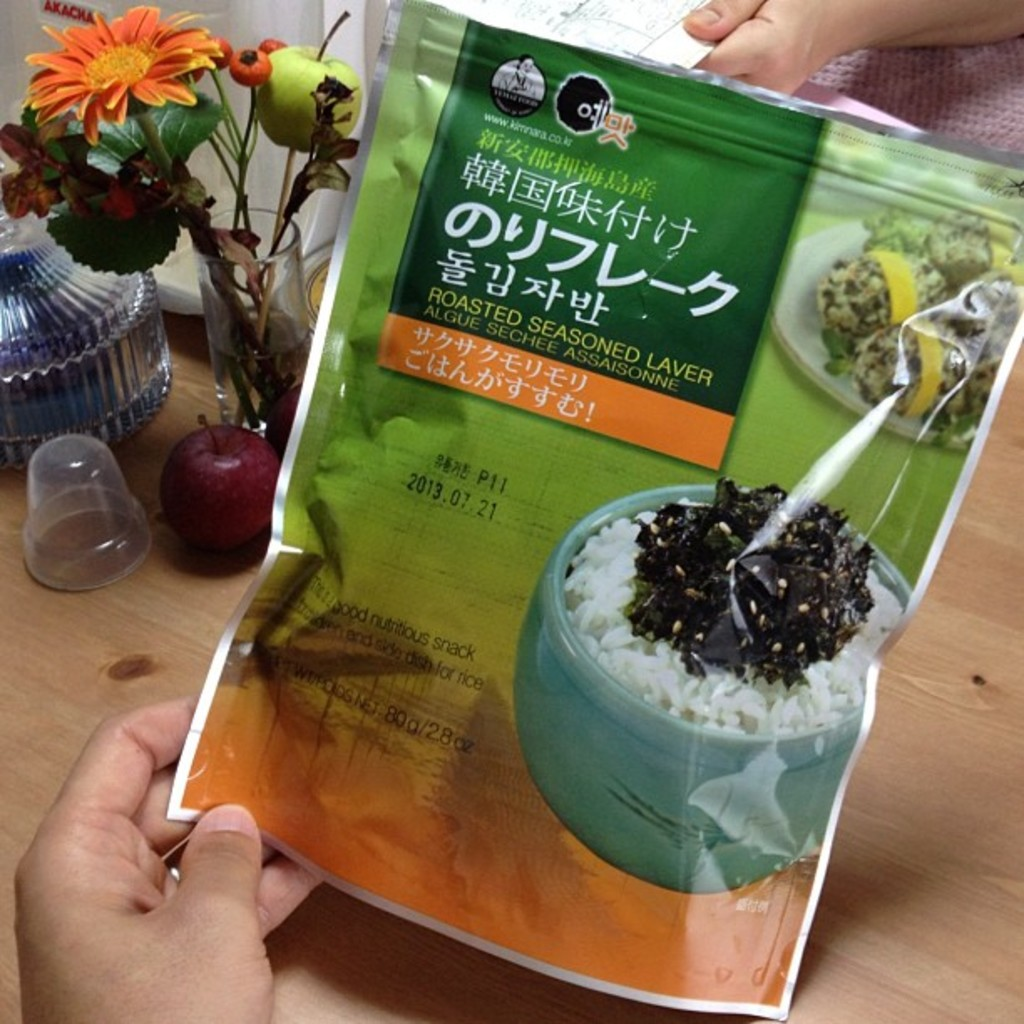Apple: (252, 5, 364, 150), (153, 423, 252, 567)
